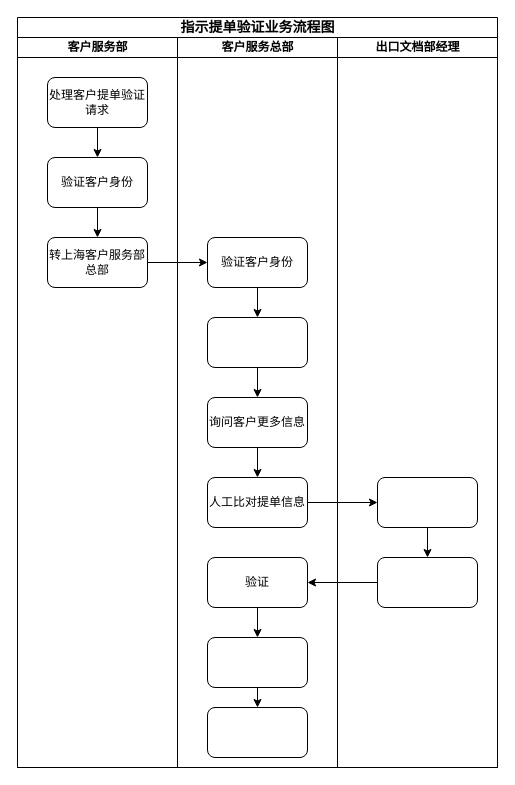
Some shapes in this 515 by 785 pixel diagram are drawn without their labels. The centre of each missing label's shape, as x and y in pixels:
"数据整理" belongs at [257,342].
"更新ERP系统" belongs at [427,582].
"检查提单货物状况" belongs at [427,502].
"结束" belongs at [257,732].
"记录验证" belongs at [257,662].
